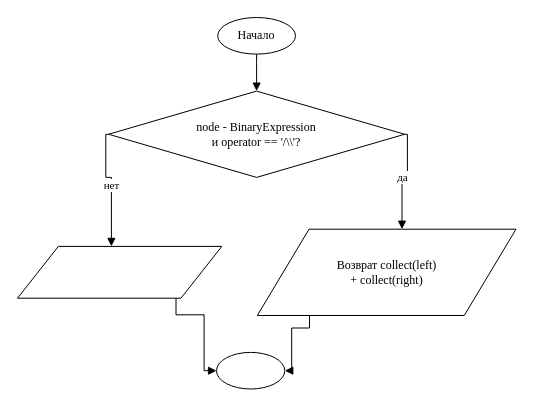
Some shapes in this 534 by 407 pixel diagram are drawn without their labels. Each missing label, with the centre of its shape:
"Возврат [node]" belongs at pixel 119 271.
"Конец" belongs at pixel 250 370.
